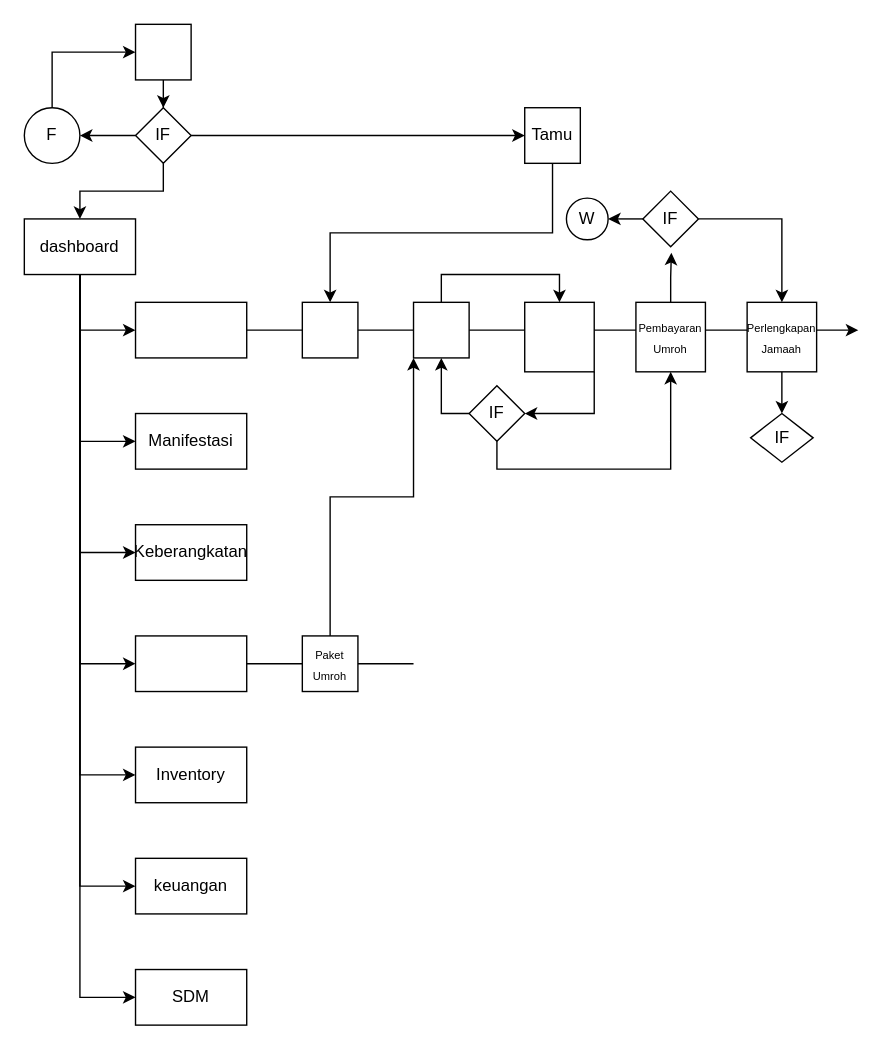
Image size: 894x1049. Some labels were removed from this diagram. Each missing label, with the centre of its shape:
"Daftar Jamaah" goes at [329,329].
"Daftar Umroh" goes at [440,329].
"Jamaah" goes at [190,329].
"Layanan Jasa" goes at [190,663].
"Login" goes at [162,51].
"Persyaratan Dokumen" goes at [558,336].
